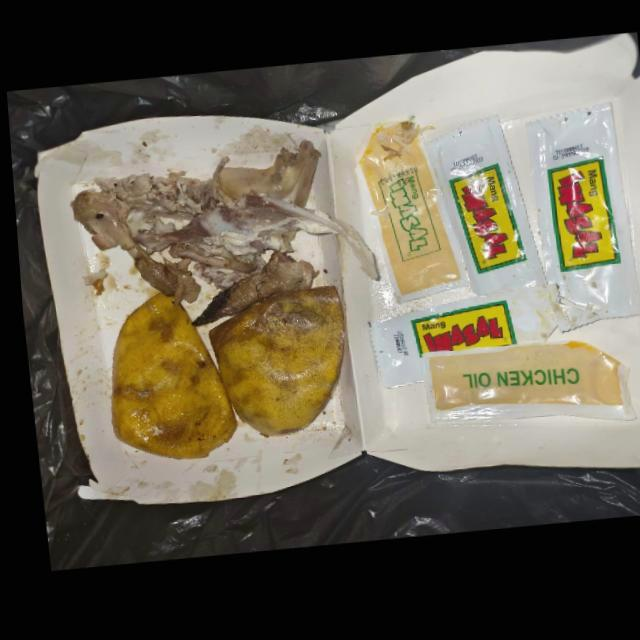left_over_food: (66, 143, 374, 304), (186, 253, 315, 328)
plastic_sachet: (523, 109, 636, 339), (423, 120, 540, 301), (353, 124, 463, 308), (364, 292, 551, 392), (416, 346, 629, 428)
